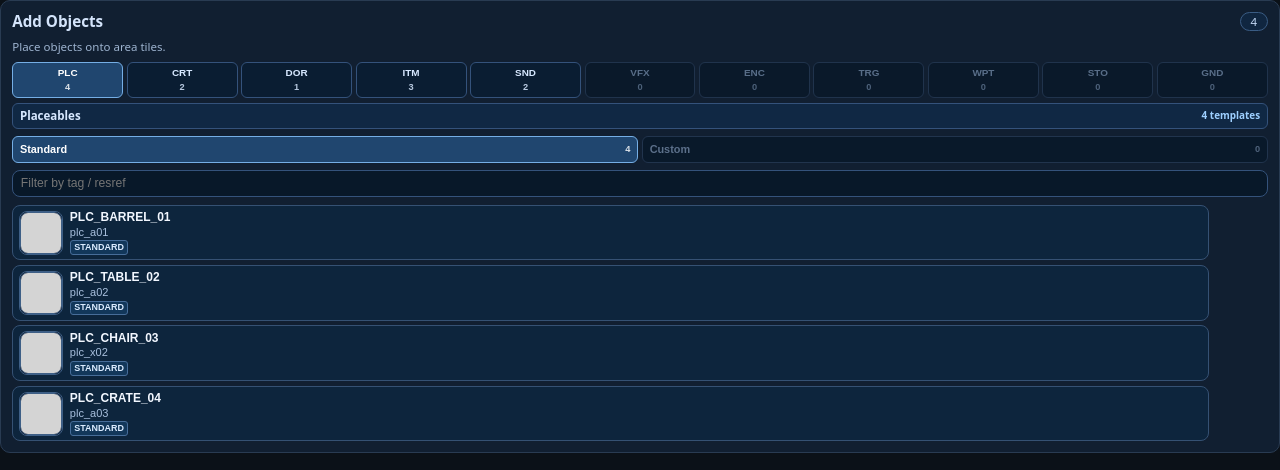
Test: SceneObjectAddPanel › resets add-object search, source, and item category filters without changing family
Click the tab with aria-label "items family, 3 templates": {"x": 411, "y": 80} [356, 62, 467, 98]
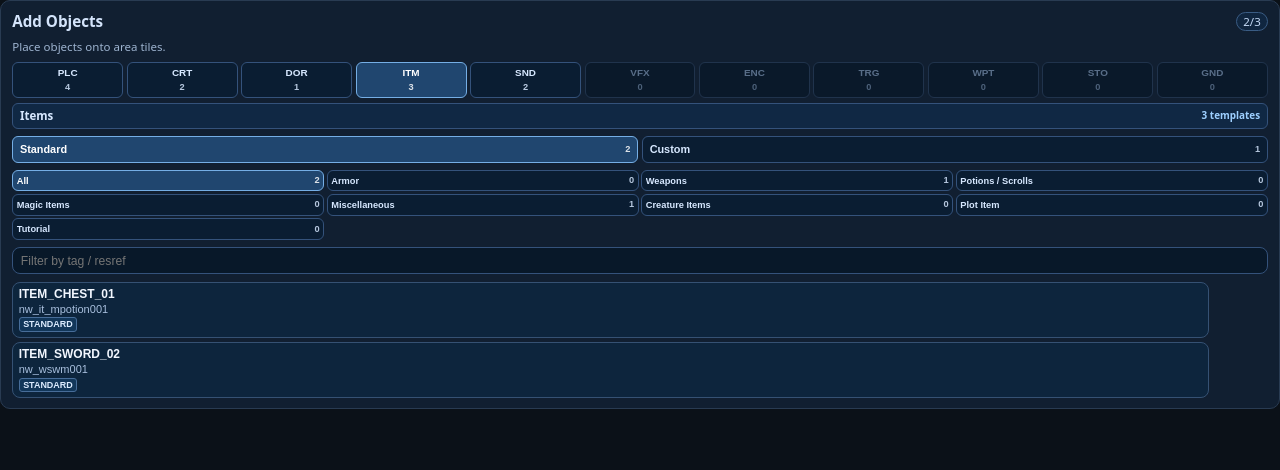
Click the button "Miscellaneous 1": {"x": 363, "y": 205} [327, 194, 639, 216]
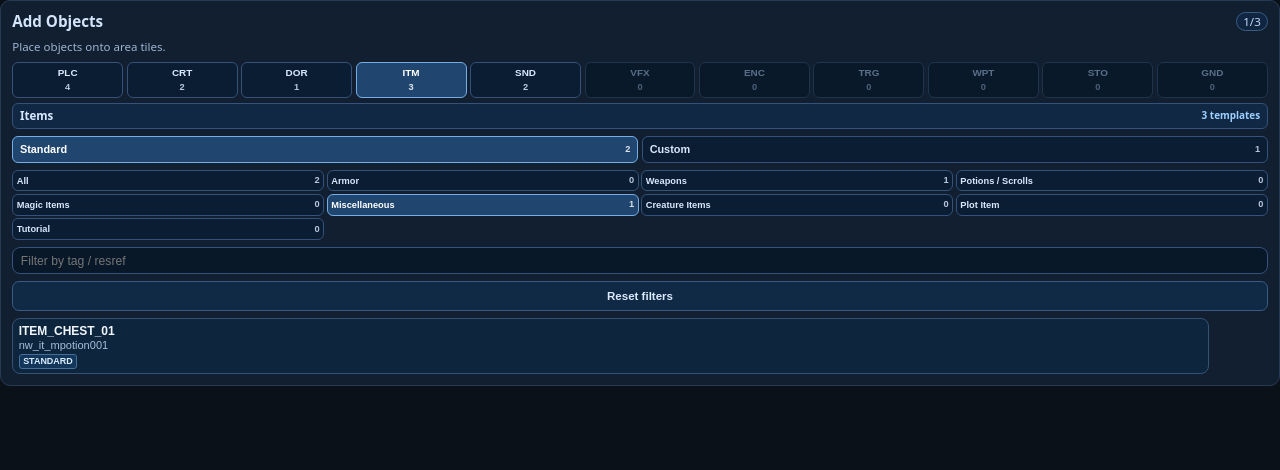
Click the tab "Custom 1": {"x": 670, "y": 149} [642, 136, 1268, 163]
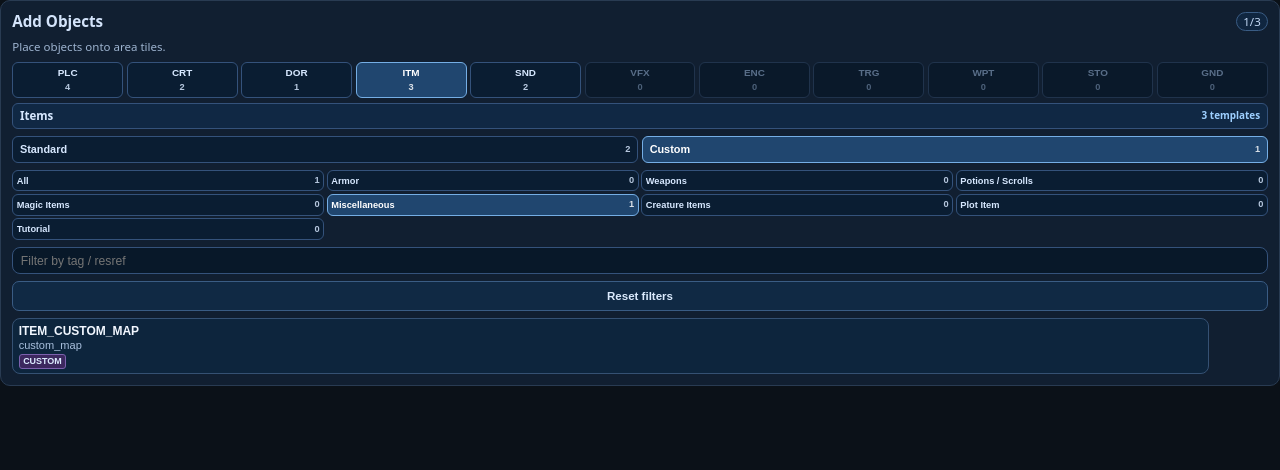
In the search field named "filter objects": {"x": 640, "y": 261} [12, 247, 1268, 274], type "zzzz"
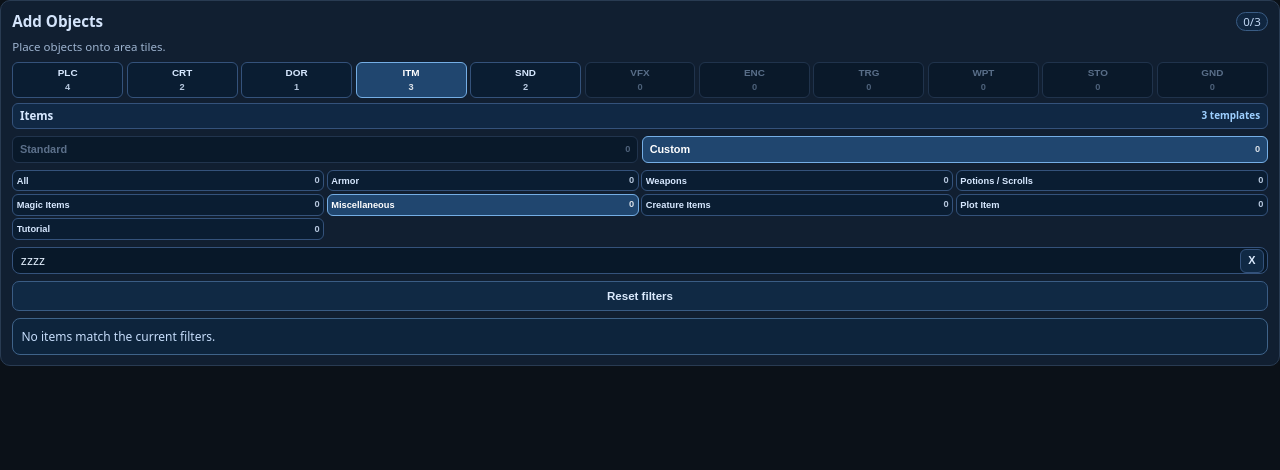
Expected: the text "0/3" is shown, [1236, 12, 1268, 31]
Expected: the text "No items match the current filters." is shown, [12, 318, 1268, 355]
Click the button with aria-label "reset add object filters": {"x": 640, "y": 296} [12, 281, 1268, 311]
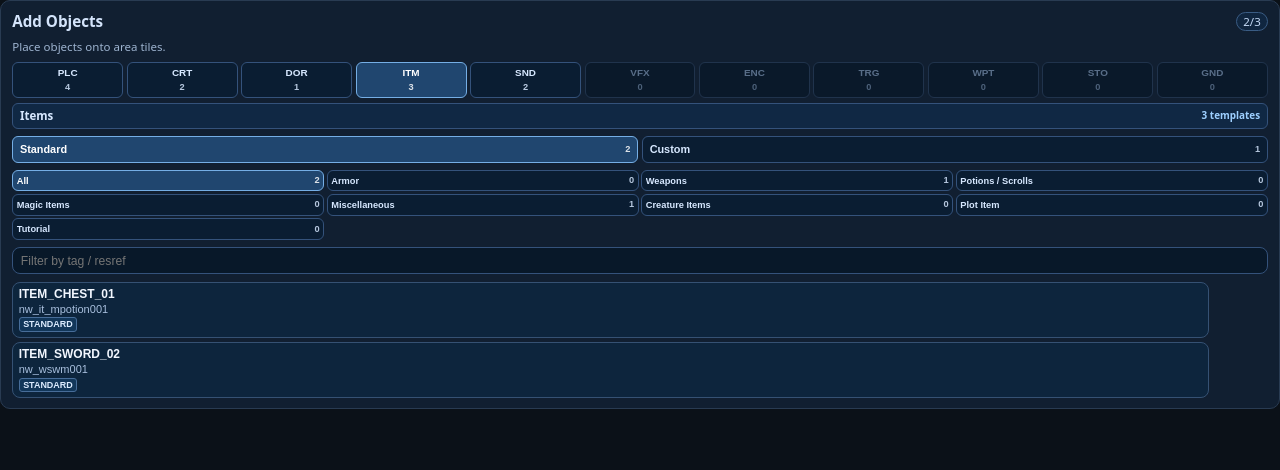
Expected: the search field named "filter objects" is empty, [12, 247, 1268, 274]
Expected: the text "ITEM_SWORD_02" is shown, [19, 348, 120, 362]
